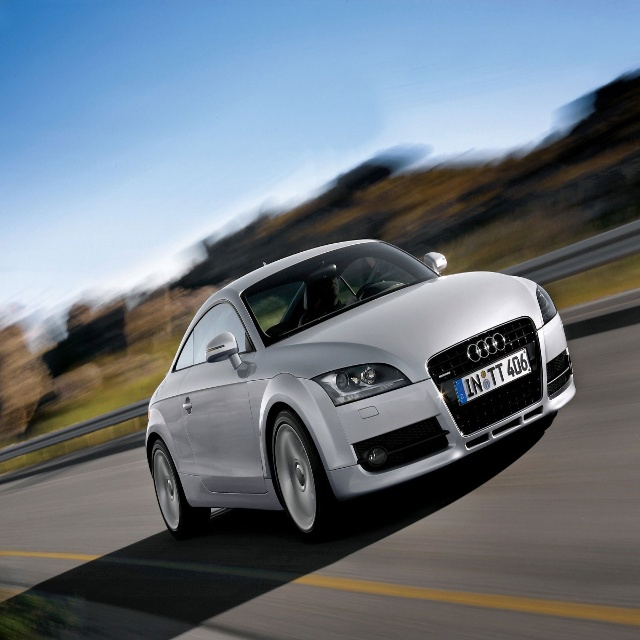Car: (144, 238, 576, 543)
